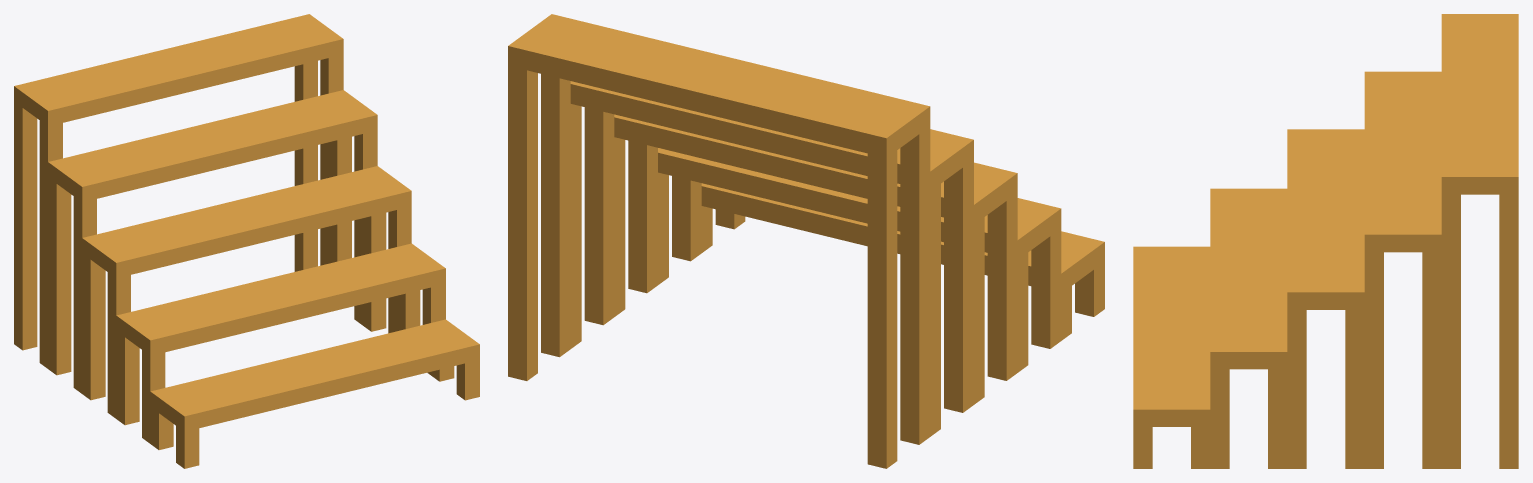
Rendered from stage-platform-stairs-big.fbx.
3 renders of one model, left to right at view 1: azimuth 30°, elevation 25°; view 2: azimuth 150°, elevation 25°; view 3: azimuth 270°, elevation 25°, orthographic. The views are drawn at different scales.
Parts seen in each view (by area): view 1: stage-platform-stairs-big; view 2: stage-platform-stairs-big; view 3: stage-platform-stairs-big.
Boxes of the visible parts, <box> form: stage-platform-stairs-big: <box>14,14,479,468</box>; stage-platform-stairs-big: <box>508,14,1104,468</box>; stage-platform-stairs-big: <box>1133,14,1518,468</box>.
Bounding box in the file's own units: 2 × 1.67 × 2.
